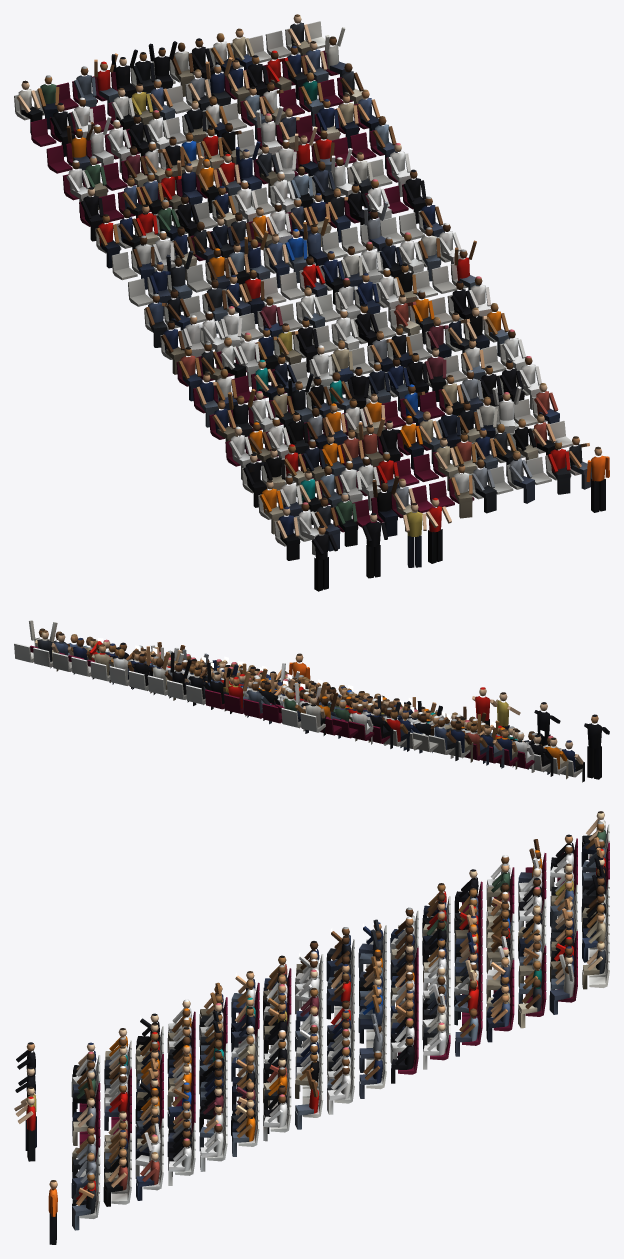
File: stand_T2_kit_2.glb
The picture shows the model from 3 angles, top to bottom: view 1: azimuth 30°, elevation 25°; view 2: azimuth 150°, elevation 25°; view 3: azimuth 270°, elevation 25°; orthographic projection. The views are drawn at different scales.
Parts seen in each view (by area): view 1: kit_2; view 2: kit_2; view 3: kit_2.
Boxes of the visible parts, <box> form: kit_2: <box>14,14,609,591</box>; kit_2: <box>14,620,609,782</box>; kit_2: <box>14,811,609,1244</box>.
Size of the model in its own units: 8.95 by 8.21 by 14.96.
